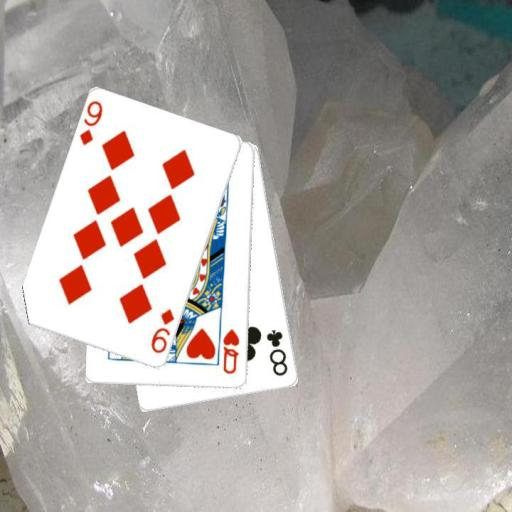8C: (263, 327, 290, 378)
9D: (76, 98, 105, 148), (148, 306, 176, 356)
QH: (220, 327, 242, 377)
